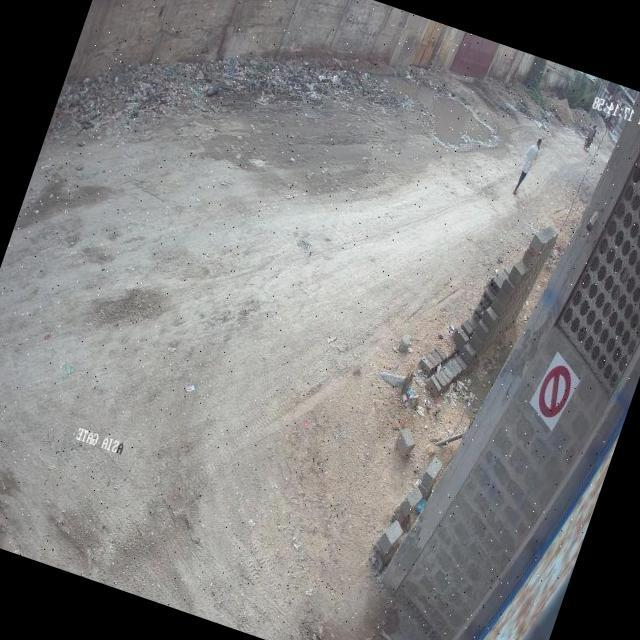person: (506, 130, 547, 207)
